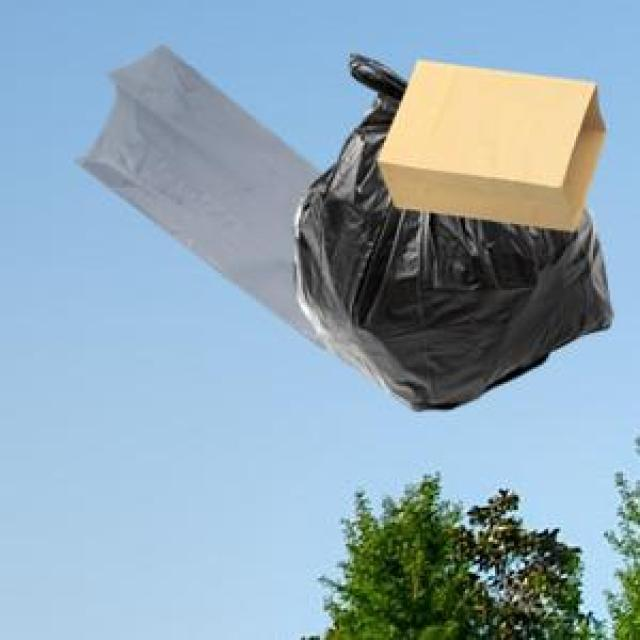miscellaneous trash: (290, 51, 608, 408)
paper: (373, 56, 602, 226)
